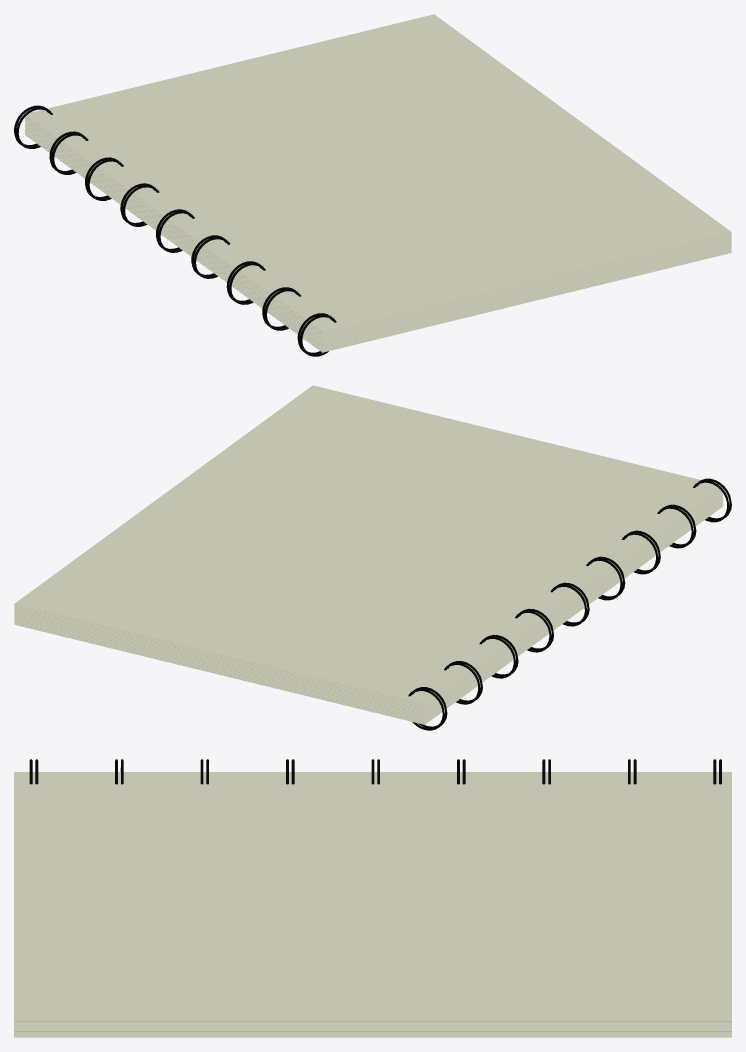
The model's file is notebook.fbx.
3 views of the same model, one above another, from view 1: azimuth 30°, elevation 25°; view 2: azimuth 150°, elevation 25°; view 3: azimuth 270°, elevation 25° (orthographic). The views are drawn at different scales.
Visible parts, largest first — view 1: notebook; view 2: notebook; view 3: notebook.
Part boxes in pixels (x1,y1,x2,y2): notebook: (14, 14, 731, 356); notebook: (14, 385, 731, 730); notebook: (14, 759, 731, 1037).
Bounding box in the file's own units: 16.59 × 1.52 × 20.16.
